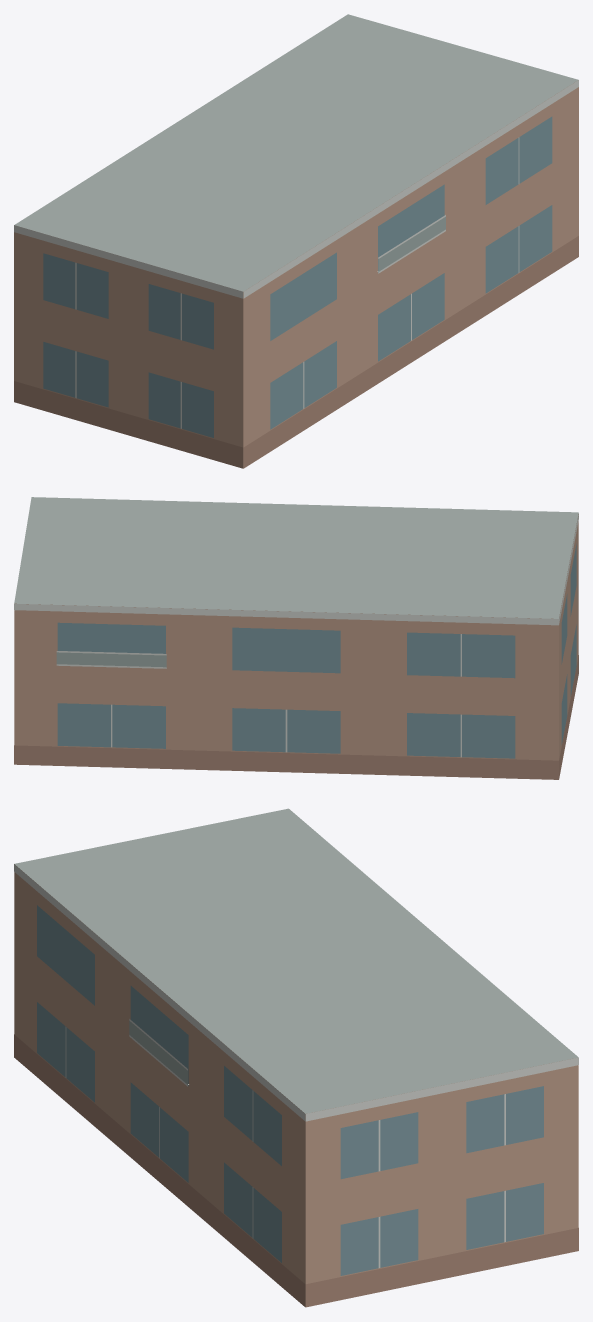
Rendered from survey-upis-32704901.glb.
The picture shows the model from 3 angles, top to bottom: view 1: azimuth 30°, elevation 25°; view 2: azimuth 150°, elevation 25°; view 3: azimuth 270°, elevation 25°; orthographic projection. The views are drawn at different scales.
Parts seen in each view (by area): view 1: survey-upis-32704901.tmp; view 2: survey-upis-32704901.tmp; view 3: survey-upis-32704901.tmp.
Part boxes in pixels (x1,y1,x2,y2): survey-upis-32704901.tmp: (14,14,578,468); survey-upis-32704901.tmp: (14,497,578,779); survey-upis-32704901.tmp: (14,808,578,1307).
Size of the model in its own units: 20.65 by 6.1 by 16.14.
